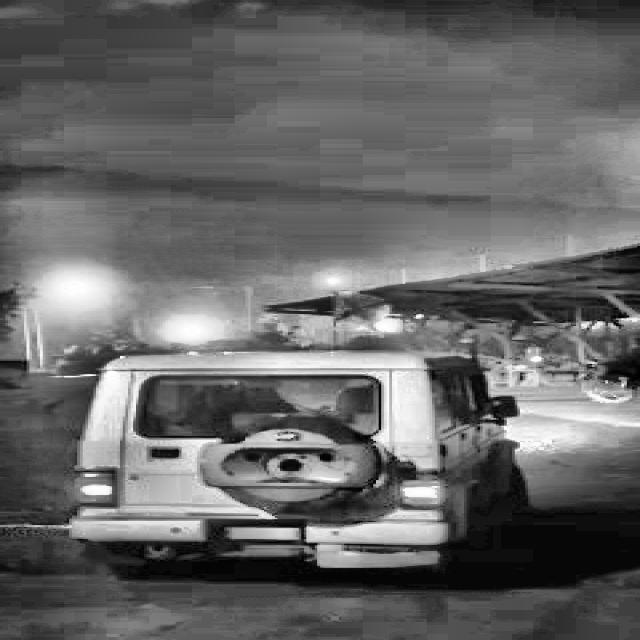light_vehicle: (21, 348, 520, 588)
